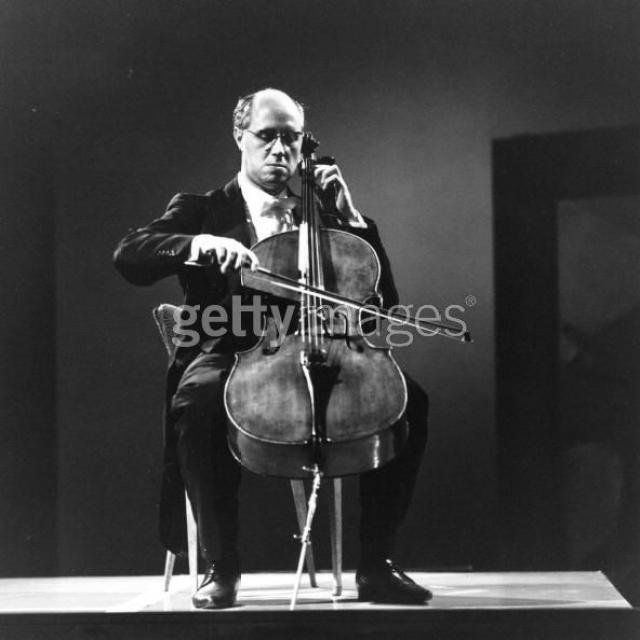cello: (216, 131, 413, 481)
